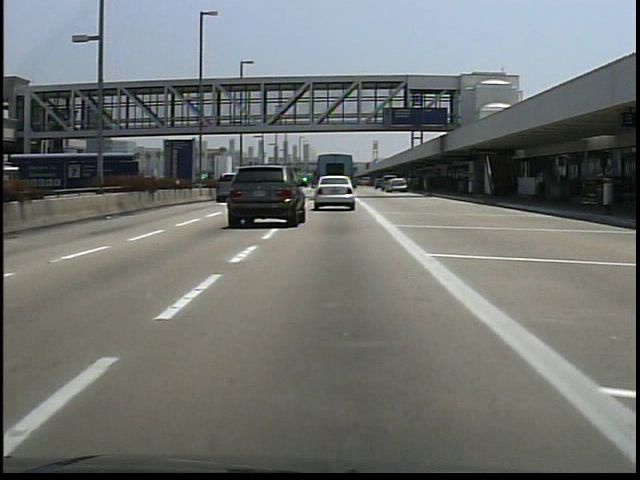person: (531, 168, 552, 205)
